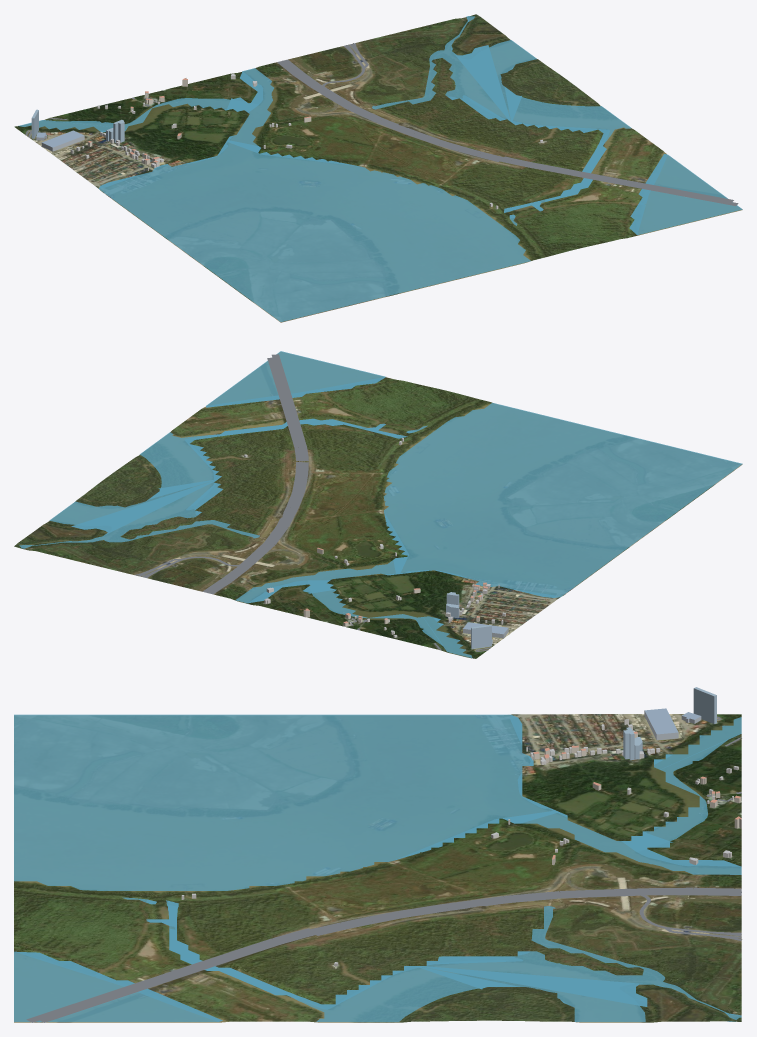
3 renders of one model, top to bottom at view 1: azimuth 30°, elevation 25°; view 2: azimuth 150°, elevation 25°; view 3: azimuth 270°, elevation 25°, orthographic. The views are drawn at different scales.
Parts seen in each view (by area): view 1: TERRAIN, WATER, ROAD_METRO, BLDG_TUBE_HOUSE, BLDG_INDUSTRIAL_PORT, BLDG_MODERN_TOWER; view 2: TERRAIN, WATER, ROAD_METRO, BLDG_MODERN_TOWER, BLDG_TUBE_HOUSE; view 3: TERRAIN, WATER, ROAD_METRO, BLDG_MODERN_TOWER, BLDG_TUBE_HOUSE, BLDG_INDUSTRIAL_PORT, BLDG_SHOPHOUSE.
Part boxes in pixels (x1,y1,x2,y2): TERRAIN: (14, 14, 742, 322); WATER: (18, 16, 742, 321); ROAD_METRO: (25, 43, 738, 206); BLDG_TUBE_HOUSE: (70, 73, 543, 209); BLDG_INDUSTRIAL_PORT: (36, 130, 84, 151); BLDG_MODERN_TOWER: (31, 109, 124, 142); TERRAIN: (14, 352, 742, 658); WATER: (19, 351, 742, 657); ROAD_METRO: (135, 354, 490, 651); BLDG_MODERN_TOWER: (446, 592, 491, 648); BLDG_TUBE_HOUSE: (244, 438, 505, 637); TERRAIN: (14, 714, 741, 1022); WATER: (14, 714, 741, 1021); ROAD_METRO: (26, 716, 742, 1022); BLDG_MODERN_TOWER: (623, 687, 716, 760); BLDG_TUBE_HOUSE: (181, 719, 738, 966); BLDG_INDUSTRIAL_PORT: (644, 708, 701, 740); BLDG_SHOPHOUSE: (533, 731, 741, 865).
Bounding box in the file's own units: 2014 × 88.37 × 2004.
Materials: 7 (1 with a texture image).
